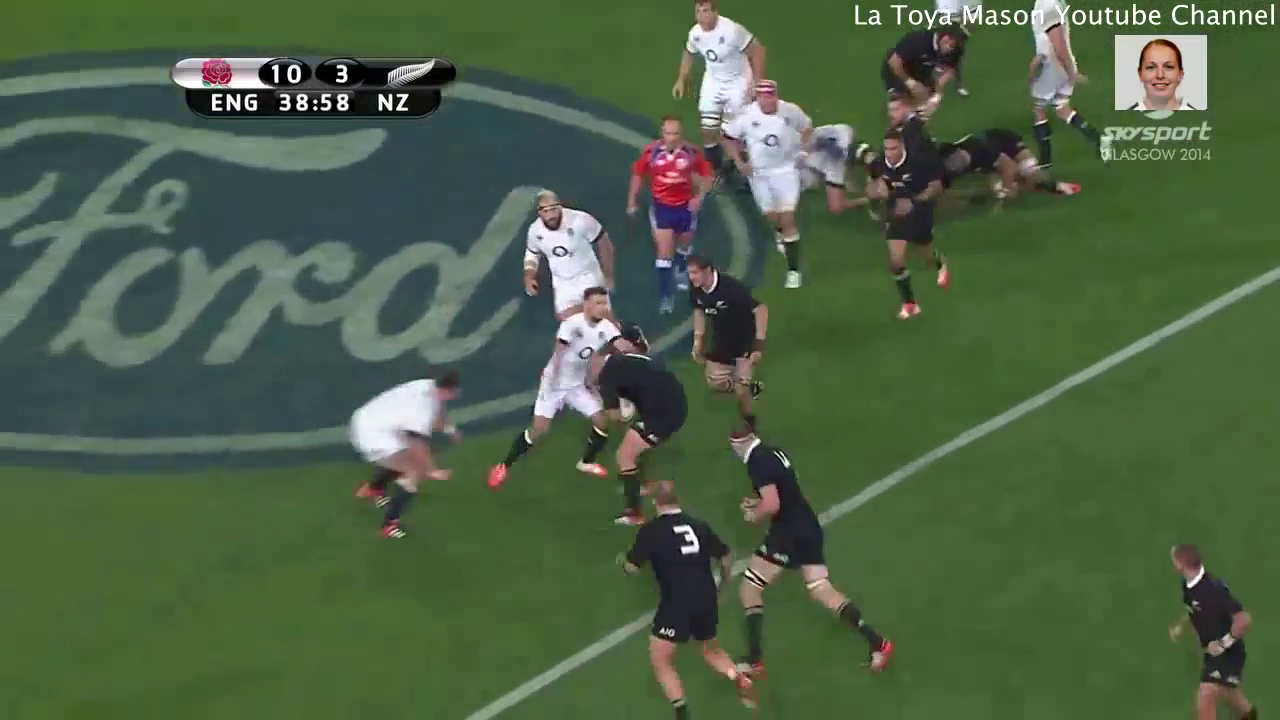player: (696, 412, 911, 696), (601, 463, 763, 720), (482, 266, 629, 502), (323, 364, 474, 556), (714, 68, 828, 291), (582, 335, 702, 539), (1147, 536, 1276, 720), (866, 128, 969, 330), (669, 1, 774, 196), (678, 247, 781, 440), (1022, 1, 1121, 195), (741, 88, 893, 214), (619, 102, 709, 312), (512, 186, 625, 340), (933, 116, 1098, 221), (877, 89, 961, 224), (869, 15, 980, 104)
